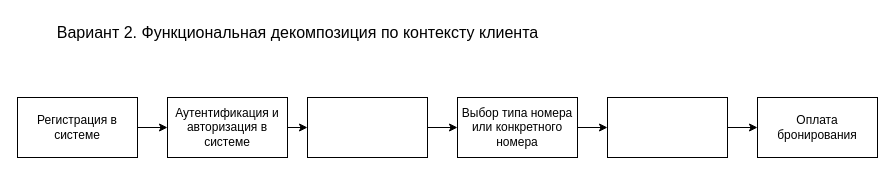
Image size: 895x175. Some labels were removed from this diagram. The box of each missing label's shape, as (x1, y1, x2, y2) in pixels:
Оформление бронирования: (606, 96, 728, 158)
Просмотр доступных номеров и их характеристик: (306, 96, 428, 158)
